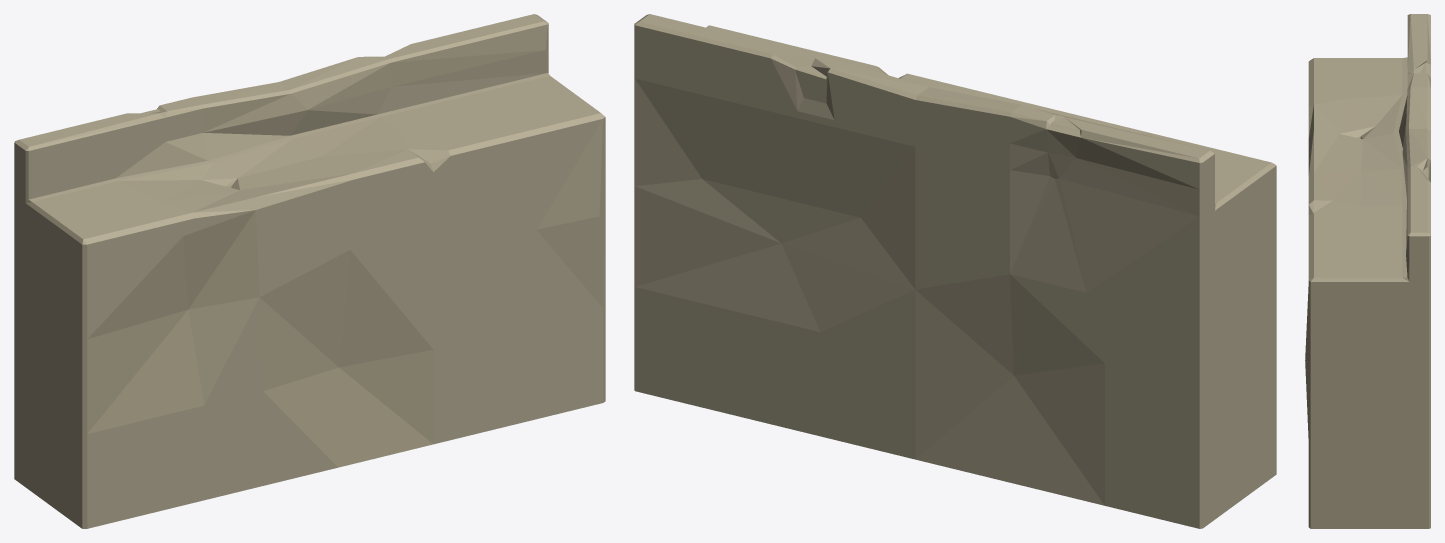
Rendered from Wall_small_2.fbx.
3 renders of one model, left to right at view 1: azimuth 30°, elevation 25°; view 2: azimuth 150°, elevation 25°; view 3: azimuth 270°, elevation 25°, orthographic. The views are drawn at different scales.
Parts seen in each view (by area): view 1: Wall_small_2; view 2: Wall_small_2; view 3: Wall_small_2.
Part boxes in pixels (x1,y1,x2,y2): Wall_small_2: [14, 14, 605, 528]; Wall_small_2: [634, 14, 1276, 528]; Wall_small_2: [1305, 14, 1430, 528].
Size of the model in its own units: 7.15 by 4.43 by 1.71.
